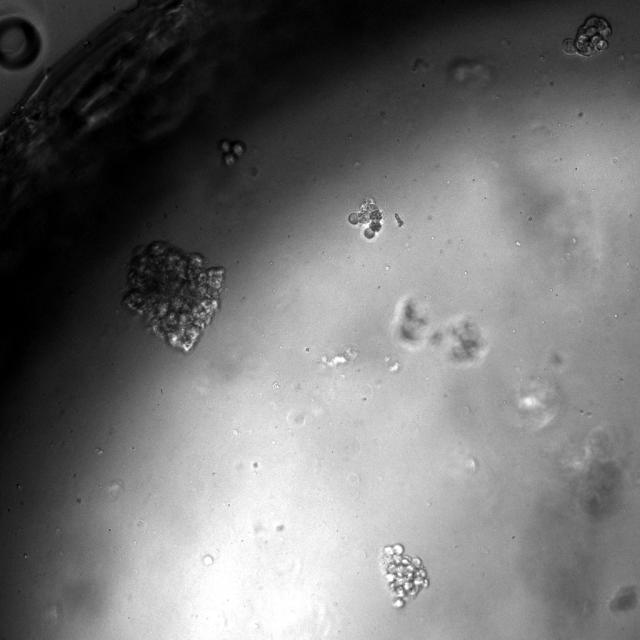organoid: (122, 241, 225, 352), (381, 545, 428, 607), (562, 16, 612, 58), (348, 198, 382, 239), (219, 140, 246, 164)
